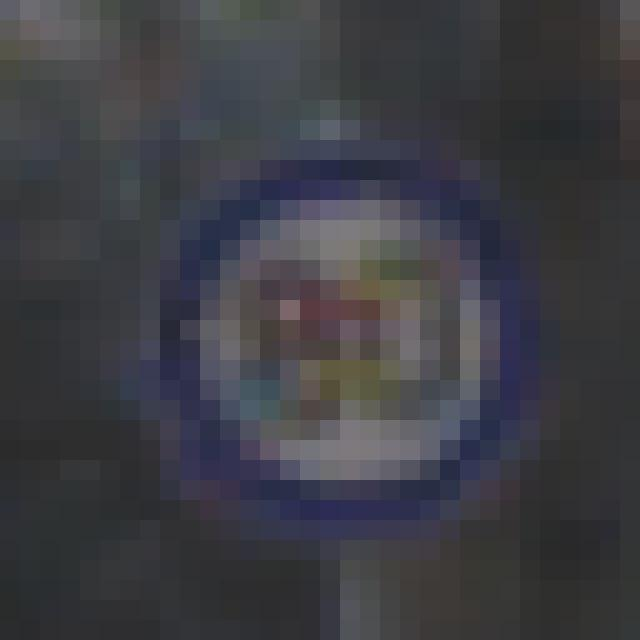SPEED-LIMIT-80: (147, 157, 525, 527)
